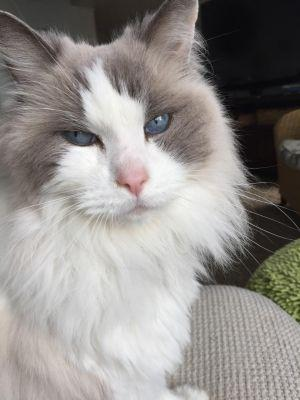ragdoll: (1, 1, 233, 259)
